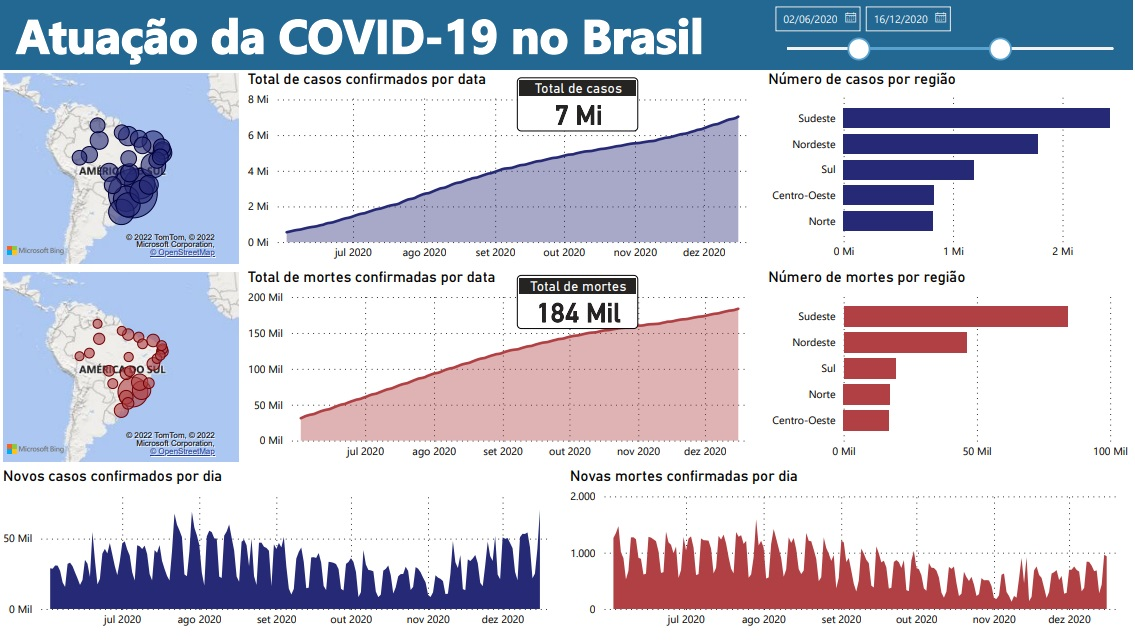

This screenshot's page, from the dashboard's own definition file:
{"tool":"powerbi","page":{"name":"Regiões","canvas":[1280,720],"ordinal":0},"visuals":[{"type":"textbox","box":[0,0,1280.2,80.6],"z":0},{"type":"areaChart","title":"Total de mortes confirmadas por data","fields":{"Category":["total_regiao.date"],"Y":["Sum(total_regiao.deaths)"]},"box":[276.2,305,587.5,225],"z":1000},{"type":"areaChart","title":"Total de casos confirmados por data","fields":{"Category":["total_regiao.date"],"Y":["Sum(total_regiao.cases)"]},"box":[276,82,588,224],"z":2000},{"type":"barChart","title":"Número de casos por região","fields":{"Y":["Max(total_regiao.cases)"],"Category":["total_regiao.region"]},"box":[863.8,81.2,416.2,223.8],"z":3000},{"type":"barChart","title":"Número de mortes por região","fields":{"Category":["total_regiao.region"],"Y":["Max(total_regiao.deaths)"]},"box":[863.8,305,416.2,225],"z":4000},{"type":"card","title":"Total de casos","fields":{"Values":["Max(total_data.cases)"]},"box":[585,90,137,61],"z":5000},{"type":"card","title":"Total de mortes","fields":{"Values":["Max(total_data.deaths)"]},"box":[585,313,137,61],"z":6000},{"type":"map","fields":{"Category":["total_state.state"],"Size":["Max(total_state.cases)"]},"box":[0,80.9,276.4,224.5],"z":7000},{"type":"map","fields":{"Category":["total_state.state"],"Size":["Max(total_state.deaths)"]},"box":[0,305,276.2,223.8],"z":8000},{"type":"areaChart","title":"Novos casos confirmados por dia","fields":{"Y":["Sum(total_novos.new_cases)"],"Category":["total_novos.date.Variation.Hierarquia de datas.Ano","total_novos.date.Variation.Hierarquia de datas.Mês","total_novos.date.Variation.Hierarquia de datas.Dia"]},"box":[0,530,640,190],"z":10000},{"type":"slicer","fields":{"Values":["total_data.date"]},"box":[864.3,0,415.7,81.4],"z":11000},{"type":"areaChart","title":"Novas mortes confirmadas por dia","fields":{"Y":["Max(total_novos.new_deaths)"],"Category":["total_novos.date.Variation.Hierarquia de datas.Ano","total_novos.date.Variation.Hierarquia de datas.Mês","total_novos.date.Variation.Hierarquia de datas.Dia"]},"box":[640,530,640,190],"z":12000}]}

Visuals, with their boxes in screenshot pixels (x1, y1, x2, y2), scaled from the page's 1280x720 canvas onto the 1135x642 screenshot:
textbox: x1=0 y1=0 x2=1134 y2=72
"Total de mortes confirmadas por data" areaChart: x1=245 y1=272 x2=766 y2=473
"Total de casos confirmados por data" areaChart: x1=245 y1=73 x2=766 y2=273
"Número de casos por região" barChart: x1=766 y1=72 x2=1134 y2=272
"Número de mortes por região" barChart: x1=766 y1=272 x2=1134 y2=473
"Total de casos" card: x1=519 y1=80 x2=640 y2=135
"Total de mortes" card: x1=519 y1=279 x2=640 y2=333
map - total_state.state x Max(total_state.cases): x1=0 y1=72 x2=245 y2=272
map - total_state.state x Max(total_state.deaths): x1=0 y1=272 x2=245 y2=472
"Novos casos confirmados por dia" areaChart: x1=0 y1=473 x2=568 y2=641
slicer - total_data.date: x1=766 y1=0 x2=1134 y2=73
"Novas mortes confirmadas por dia" areaChart: x1=568 y1=473 x2=1134 y2=641
